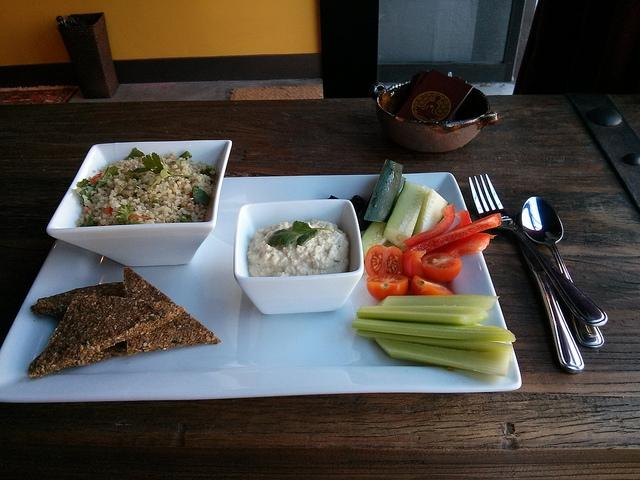bell pepper: (404, 213, 504, 255), (402, 204, 456, 246), (423, 232, 498, 258), (451, 209, 472, 230)
celery: (356, 328, 514, 362), (374, 337, 511, 376), (352, 318, 516, 342), (356, 306, 490, 326), (376, 294, 500, 310)
tomato: (406, 213, 502, 254), (365, 244, 404, 276), (421, 252, 462, 282), (366, 274, 408, 302), (411, 274, 456, 296)
vegetable marrow: (382, 180, 427, 252), (364, 160, 404, 223), (412, 188, 448, 236), (361, 221, 389, 262)
